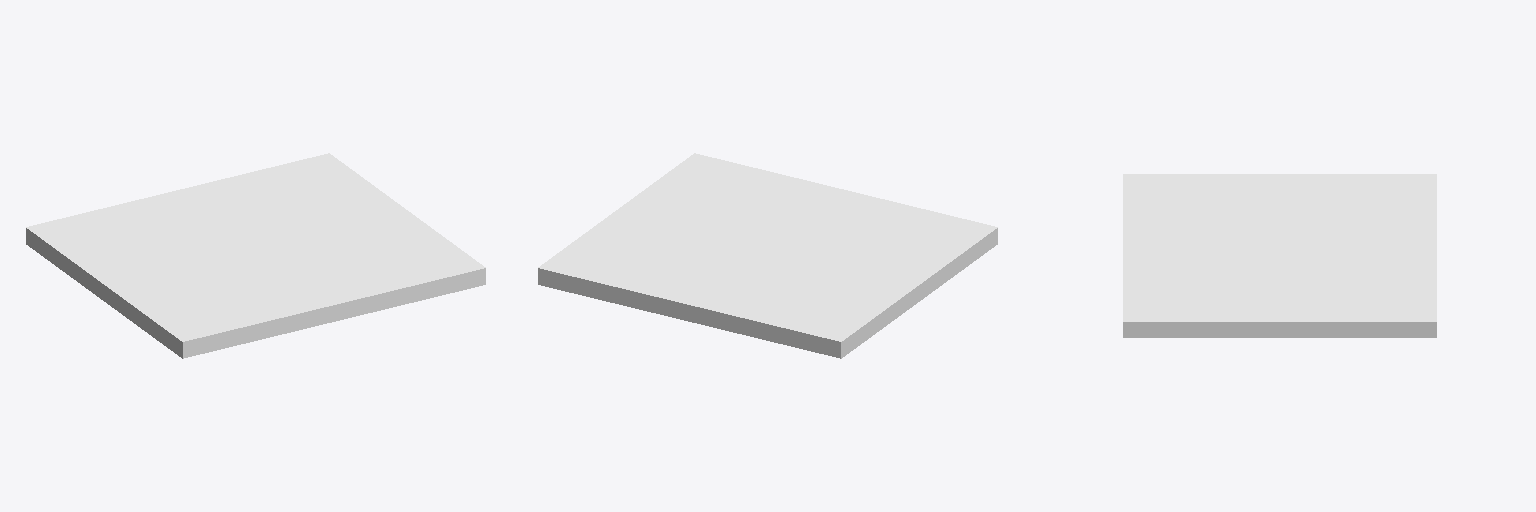
The model's file is Steinplatte.obj.
The picture shows the model from 3 angles: view 1: azimuth 30°, elevation 25°; view 2: azimuth 150°, elevation 25°; view 3: azimuth 270°, elevation 25°; orthographic projection.
Parts seen in each view (by area): view 1: object 1; view 2: object 1; view 3: object 1.
Boxes of the visible parts, x1,y1,x2,y2 form: object 1: [26, 153, 485, 358]; object 1: [538, 153, 997, 358]; object 1: [1123, 174, 1436, 337].
Size of the model in its own units: 5.7 by 0.3 by 5.1.